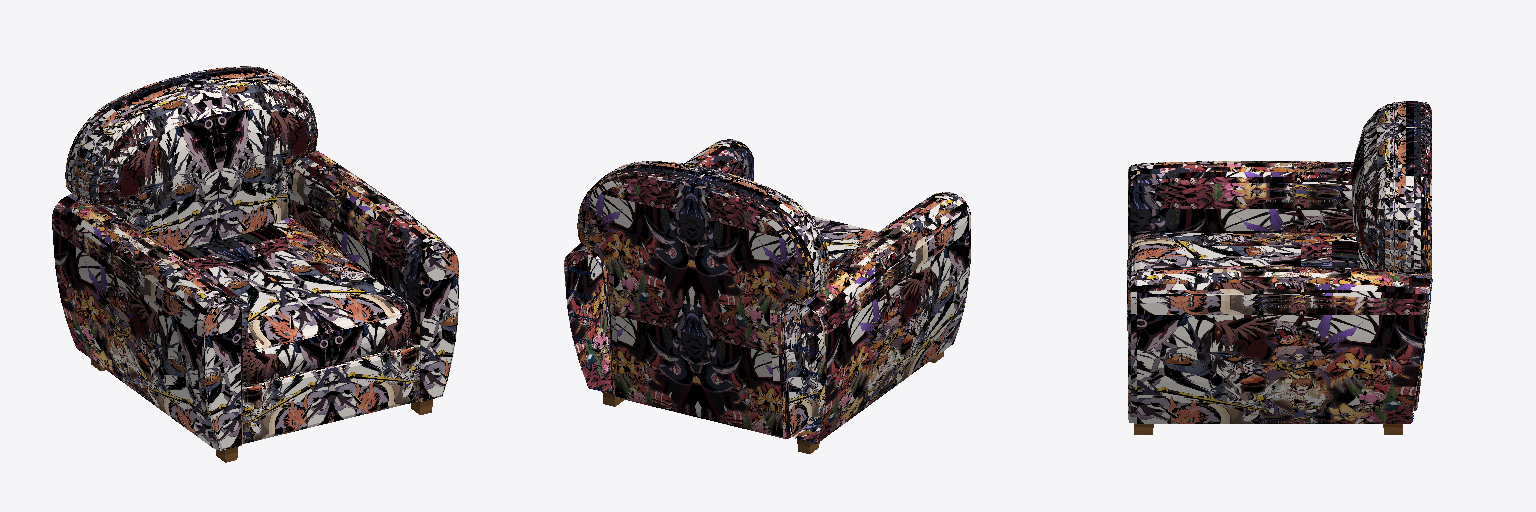
3 renders of one model, left to right at view 1: azimuth 30°, elevation 25°; view 2: azimuth 150°, elevation 25°; view 3: azimuth 270°, elevation 25°, orthographic.
Parts seen in each view (by area): view 1: Mesh10 Group8 Component_5_2 Component_6_1 KARE_75790_Armchair_Ma, Mesh8 Group6 Component_5_2 Component_6_1 KARE_75790_Armchair_Mad, Mesh4 Group4 Component_5_1 Component_6_1 KARE_75790_Armchair_Mad, Mesh2 Group2 Component_5_1 Component_6_1 KARE_75790_Armchair_Mad, Mesh1 Group1 Component_5_1 Component_6_1 KARE_75790_Armchair_Mad, Mesh7 Group5 Component_5_2 Component_6_1 KARE_75790_Armchair_Mad, Mesh9 Group7 Component_5_2 Component_6_1 KARE_75790_Armchair_Mad, Mesh3 Group3 Component_5_1 Component_6_1 KARE_75790_Armchair_Mad; view 2: Mesh10 Group8 Component_5_2 Component_6_1 KARE_75790_Armchair_Ma, Mesh8 Group6 Component_5_2 Component_6_1 KARE_75790_Armchair_Mad, Mesh2 Group2 Component_5_1 Component_6_1 KARE_75790_Armchair_Mad, Mesh4 Group4 Component_5_1 Component_6_1 KARE_75790_Armchair_Mad, Mesh7 Group5 Component_5_2 Component_6_1 KARE_75790_Armchair_Mad; view 3: Mesh4 Group4 Component_5_1 Component_6_1 KARE_75790_Armchair_Mad, Mesh10 Group8 Component_5_2 Component_6_1 KARE_75790_Armchair_Ma, Mesh2 Group2 Component_5_1 Component_6_1 KARE_75790_Armchair_Mad, Mesh7 Group5 Component_5_2 Component_6_1 KARE_75790_Armchair_Mad, Mesh8 Group6 Component_5_2 Component_6_1 KARE_75790_Armchair_Mad.
Boxes of the visible parts, box(x1,y1,x2,y2) form: Mesh10 Group8 Component_5_2 Component_6_1 KARE_75790_Armchair_Ma: box(52, 194, 241, 450); Mesh8 Group6 Component_5_2 Component_6_1 KARE_75790_Armchair_Mad: box(65, 75, 219, 250); Mesh4 Group4 Component_5_1 Component_6_1 KARE_75790_Armchair_Mad: box(288, 149, 458, 401); Mesh2 Group2 Component_5_1 Component_6_1 KARE_75790_Armchair_Mad: box(183, 66, 317, 240); Mesh1 Group1 Component_5_1 Component_6_1 KARE_75790_Armchair_Mad: box(217, 218, 410, 366); Mesh7 Group5 Component_5_2 Component_6_1 KARE_75790_Armchair_Mad: box(172, 241, 332, 383); Mesh9 Group7 Component_5_2 Component_6_1 KARE_75790_Armchair_Mad: box(242, 367, 331, 443); Mesh3 Group3 Component_5_1 Component_6_1 KARE_75790_Armchair_Mad: box(330, 338, 419, 422); Mesh10 Group8 Component_5_2 Component_6_1 KARE_75790_Armchair_Ma: box(784, 192, 970, 443); Mesh8 Group6 Component_5_2 Component_6_1 KARE_75790_Armchair_Mad: box(692, 170, 829, 438); Mesh2 Group2 Component_5_1 Component_6_1 KARE_75790_Armchair_Mad: box(577, 161, 713, 417); Mesh4 Group4 Component_5_1 Component_6_1 KARE_75790_Armchair_Mad: box(564, 139, 753, 393); Mesh7 Group5 Component_5_2 Component_6_1 KARE_75790_Armchair_Mad: box(808, 223, 877, 365); Mesh4 Group4 Component_5_1 Component_6_1 KARE_75790_Armchair_Mad: box(1128, 266, 1432, 423); Mesh10 Group8 Component_5_2 Component_6_1 KARE_75790_Armchair_Ma: box(1128, 161, 1354, 254); Mesh2 Group2 Component_5_1 Component_6_1 KARE_75790_Armchair_Mad: box(1352, 128, 1431, 410); Mesh7 Group5 Component_5_2 Component_6_1 KARE_75790_Armchair_Mad: box(1127, 233, 1359, 290); Mesh8 Group6 Component_5_2 Component_6_1 KARE_75790_Armchair_Mad: box(1352, 101, 1431, 173).
Size of the model in its own units: 870 by 820 by 885.
3 materials, 3 textured.